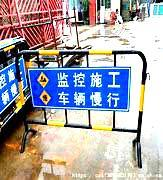sign: (17, 52, 141, 130)
